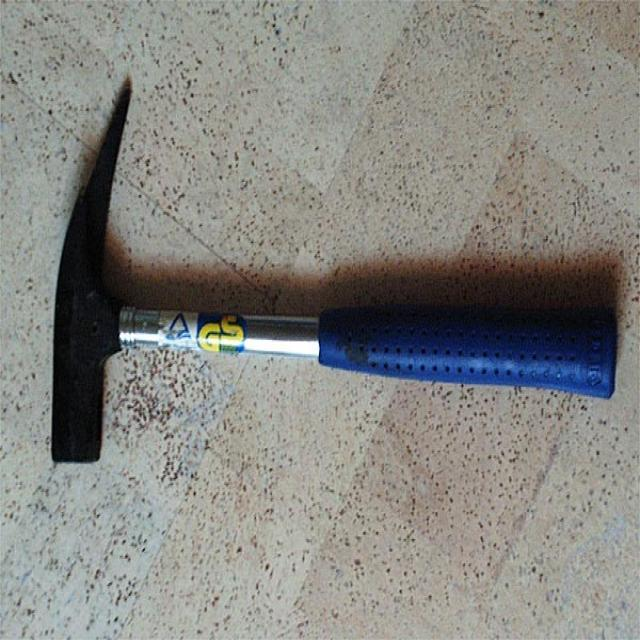hammer: (40, 68, 630, 472)
